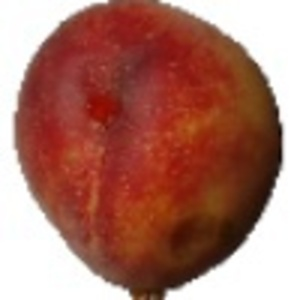pêssego: (12, 1, 284, 300)
